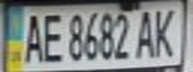2: (112, 9, 136, 60)
6: (81, 9, 100, 61)
8: (63, 9, 84, 62), (97, 8, 118, 61)
A: (133, 7, 160, 60), (18, 10, 45, 63)
E: (39, 10, 66, 64)
K: (151, 3, 181, 57)
